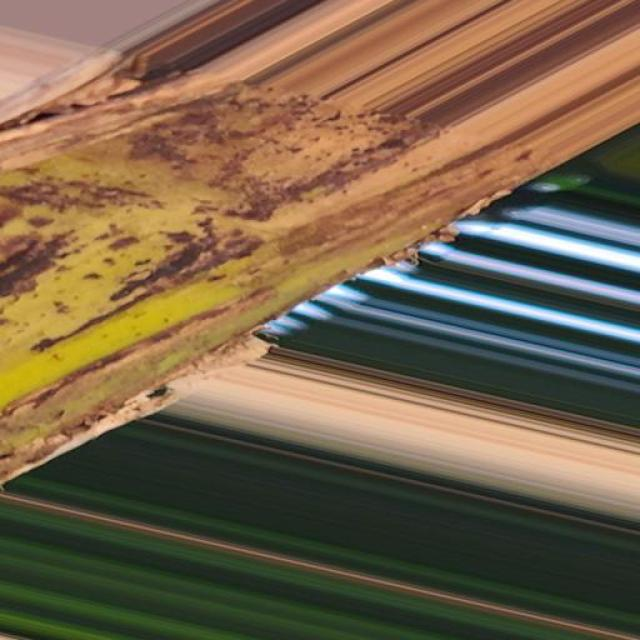Anthracnose: (4, 9, 634, 490)
